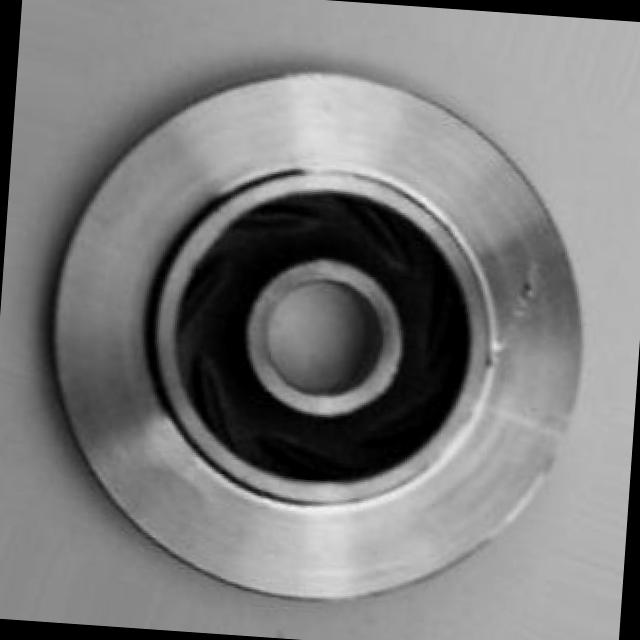Defect: (506, 262, 555, 317)
